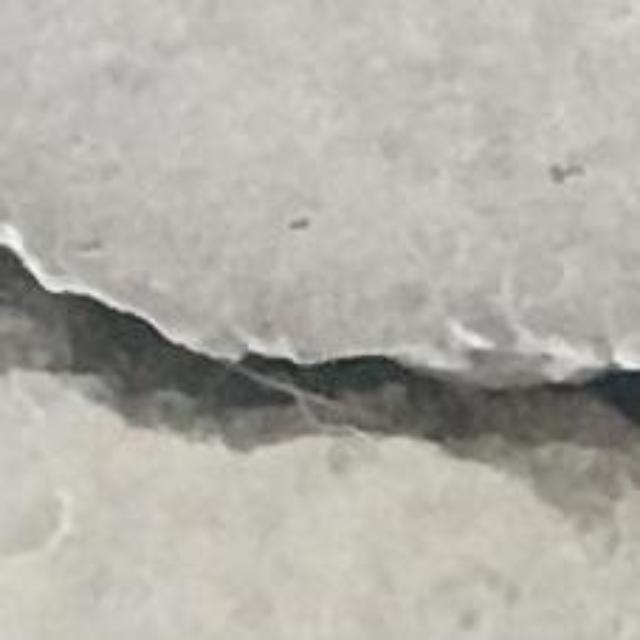crack: (0, 246, 639, 521)
